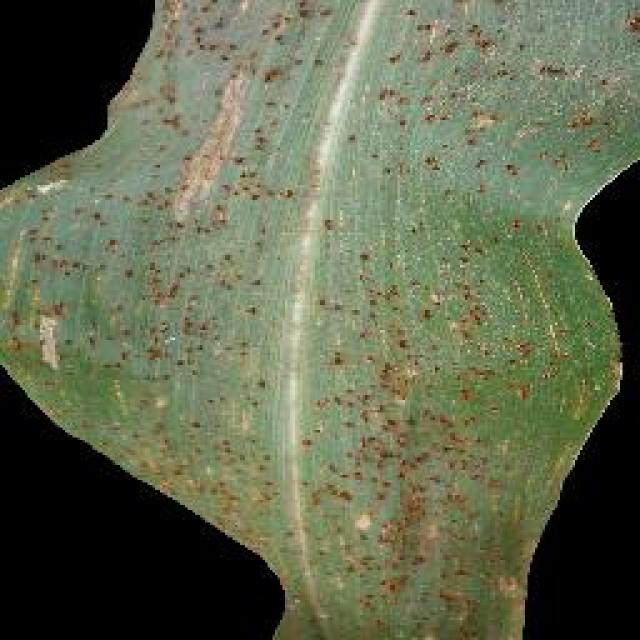Corn Common Rust: (103, 44, 587, 568)
